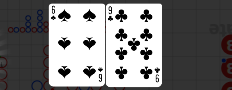4C: (107, 6, 115, 23)
6C: (50, 5, 57, 22)
